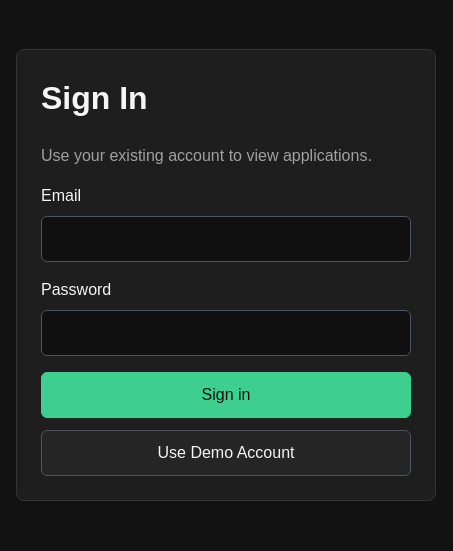
Test: App auth and routing › shows an error and does not store a token when login fails
Type "user@example.com" into the field labelled "Email" at (226, 239), box [41,216,411,262]
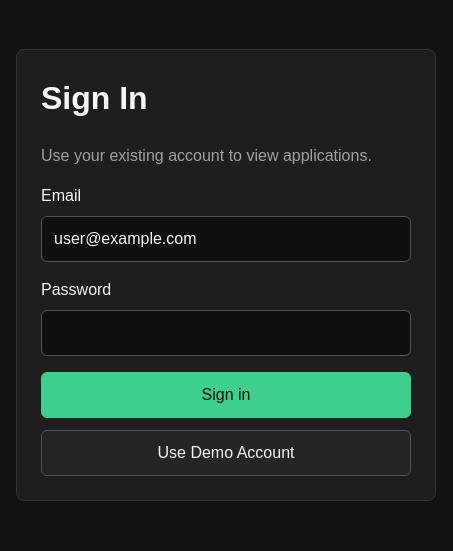
Type "wrong-password" into the password field labelled "Password" at (226, 333), box [41,310,411,356]
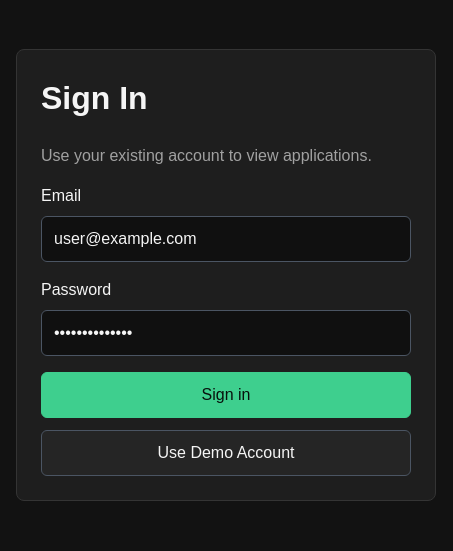
Click the button "Sign in" at (226, 395), box [41,372,411,418]
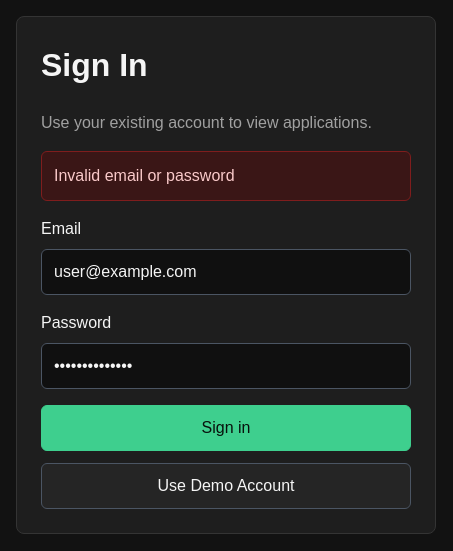
Expected: the heading "Sign In" is shown, [41,47,148,83]
Result: the message reads "Invalid email or password" at [54,167,234,184]
